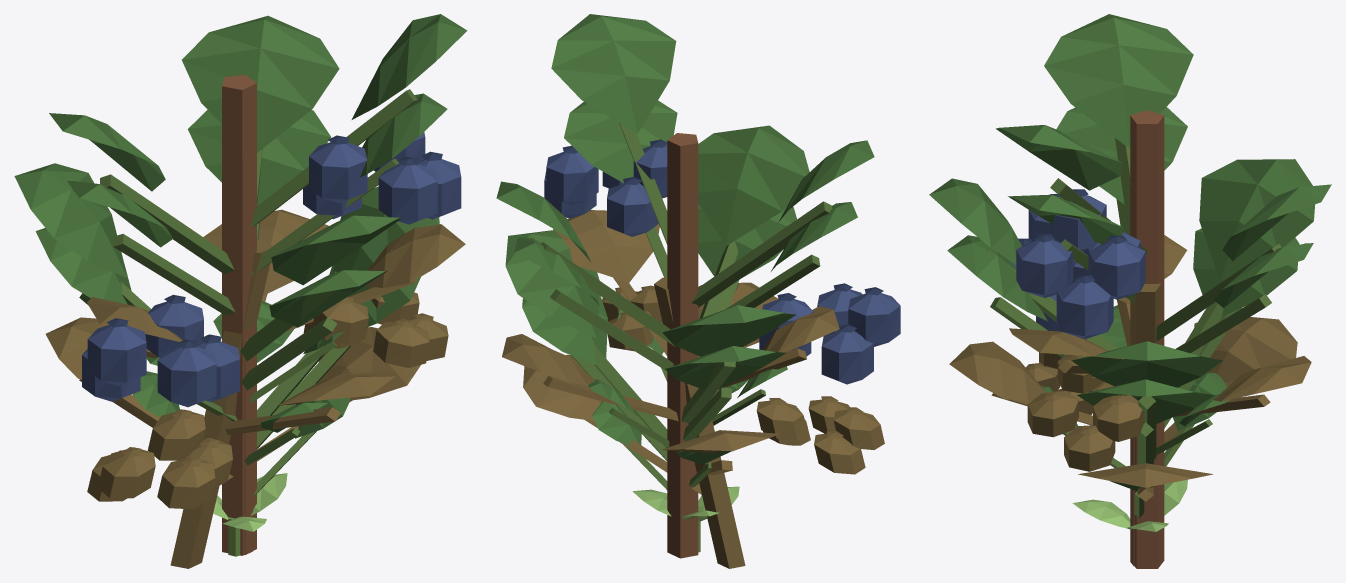
The model's file is summer_blueberry.glb.
3 views of the same model, side by side, from view 1: azimuth 30°, elevation 25°; view 2: azimuth 150°, elevation 25°; view 3: azimuth 270°, elevation 25° (orthographic). The views are drawn at different scales.
Parts seen in each view (by area): view 1: stage3, dead, stage2, stage1, stage0; view 2: stage3, dead, stage2, stage1, stage0; view 3: stage3, dead, stage2, stage1, stage0.
Boxes of the visible parts, bbox=[...] form: stage3: bbox=[14, 14, 467, 555]; dead: bbox=[45, 209, 465, 568]; stage2: bbox=[35, 93, 447, 555]; stage1: bbox=[132, 301, 349, 554]; stage0: bbox=[213, 473, 287, 556]; stage3: bbox=[496, 14, 900, 558]; dead: bbox=[502, 210, 884, 568]; stage2: bbox=[514, 100, 857, 461]; stage1: bbox=[588, 309, 787, 489]; stage0: bbox=[632, 486, 739, 552]; stage3: bbox=[929, 14, 1331, 568]; dead: bbox=[949, 235, 1311, 501]; stage2: bbox=[947, 107, 1313, 567]; stage1: bbox=[1031, 305, 1229, 566]; stage0: bbox=[1072, 479, 1187, 531].
Bounding box in the file's own units: 0.6287 × 0.8075 × 0.5824.
